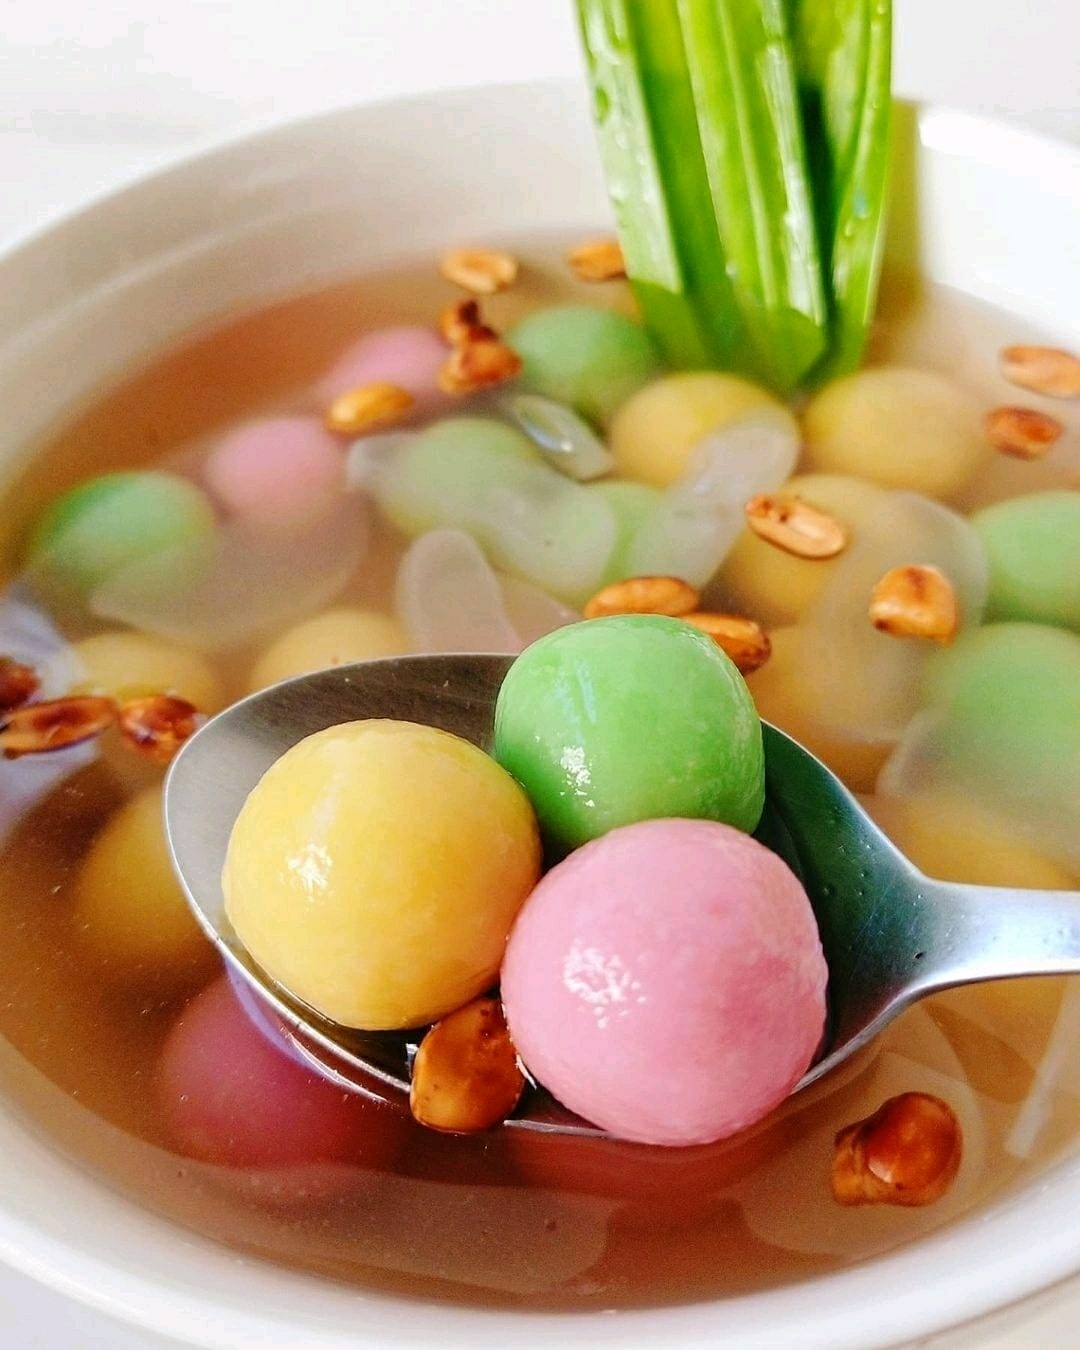ronde: (222, 615, 831, 1160)
